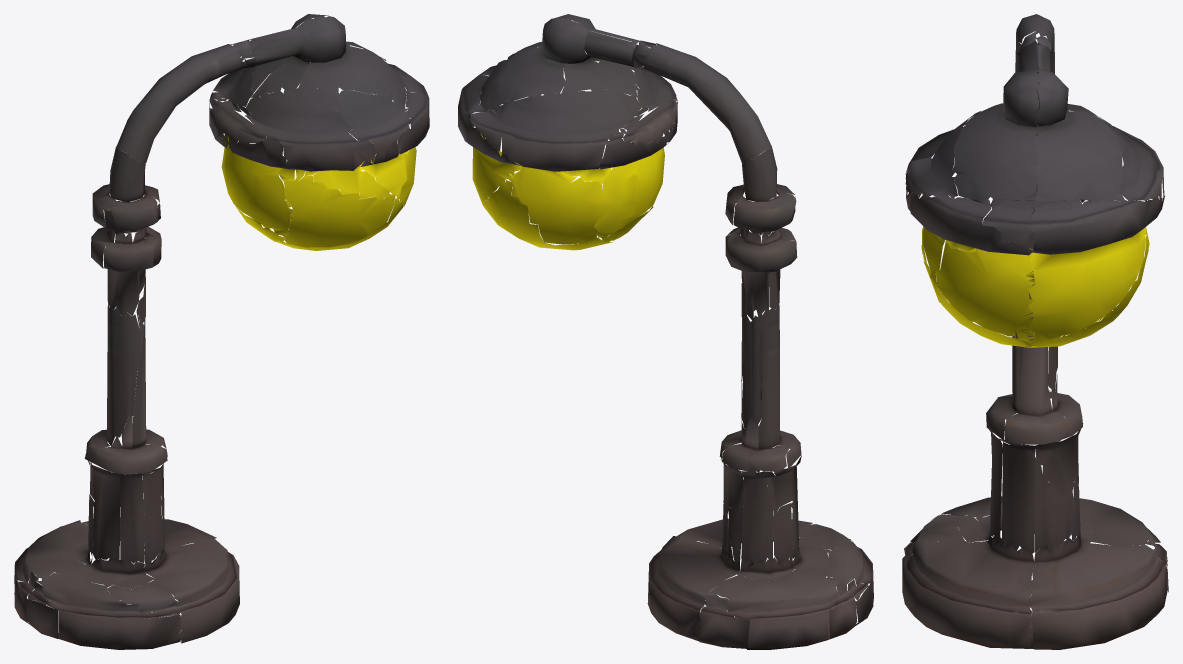
File: laterne_modern.glb
3 renders of one model, left to right at view 1: azimuth 30°, elevation 25°; view 2: azimuth 150°, elevation 25°; view 3: azimuth 270°, elevation 25°, orthographic. The views are drawn at different scales.
Parts seen in each view (by area): view 1: tripo_node_ff2b9f69-40c0-41e3-b4d2-9f34e4bb532d; view 2: tripo_node_ff2b9f69-40c0-41e3-b4d2-9f34e4bb532d; view 3: tripo_node_ff2b9f69-40c0-41e3-b4d2-9f34e4bb532d.
Part boxes in pixels (x1,y1,x2,y2): tripo_node_ff2b9f69-40c0-41e3-b4d2-9f34e4bb532d: [14, 14, 429, 649]; tripo_node_ff2b9f69-40c0-41e3-b4d2-9f34e4bb532d: [458, 14, 873, 649]; tripo_node_ff2b9f69-40c0-41e3-b4d2-9f34e4bb532d: [902, 14, 1168, 649].
Bounding box in the file's own units: 0.7538 × 1 × 0.3834.
1 material, 1 textured.
